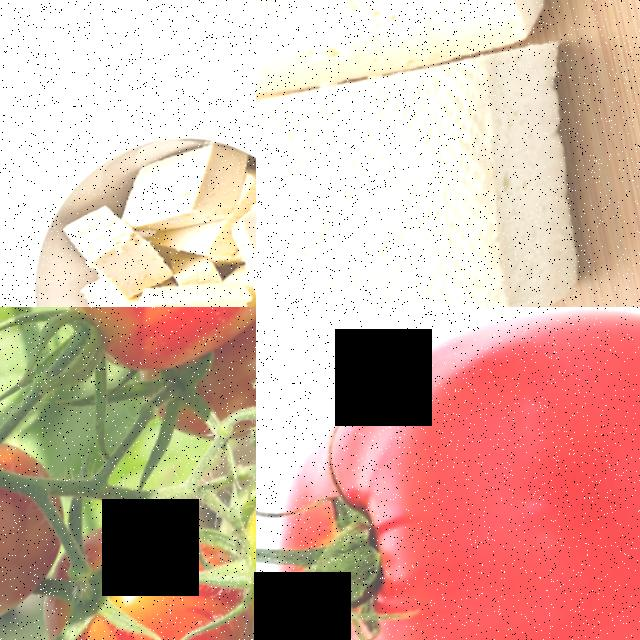tofu: (256, 30, 602, 307), (256, 0, 541, 128), (108, 143, 248, 247), (57, 198, 157, 307), (98, 265, 256, 307), (222, 195, 256, 306)
tomato: (256, 307, 640, 640), (6, 490, 252, 640), (24, 307, 256, 401)
